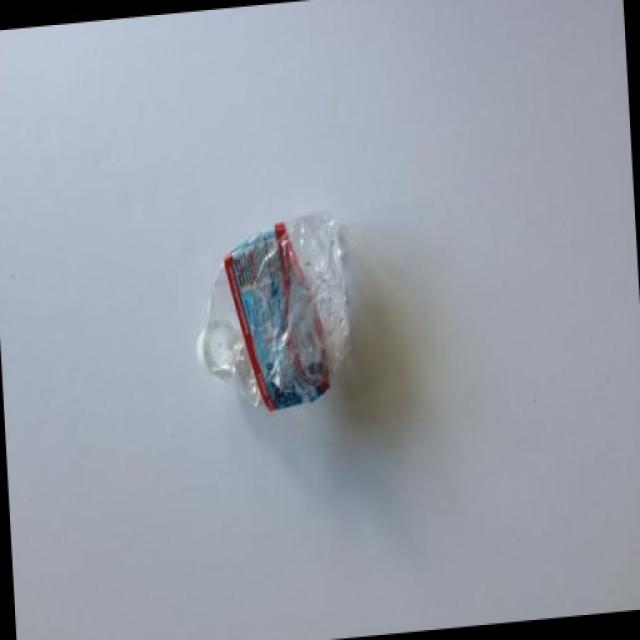plastico: (183, 196, 395, 468)
